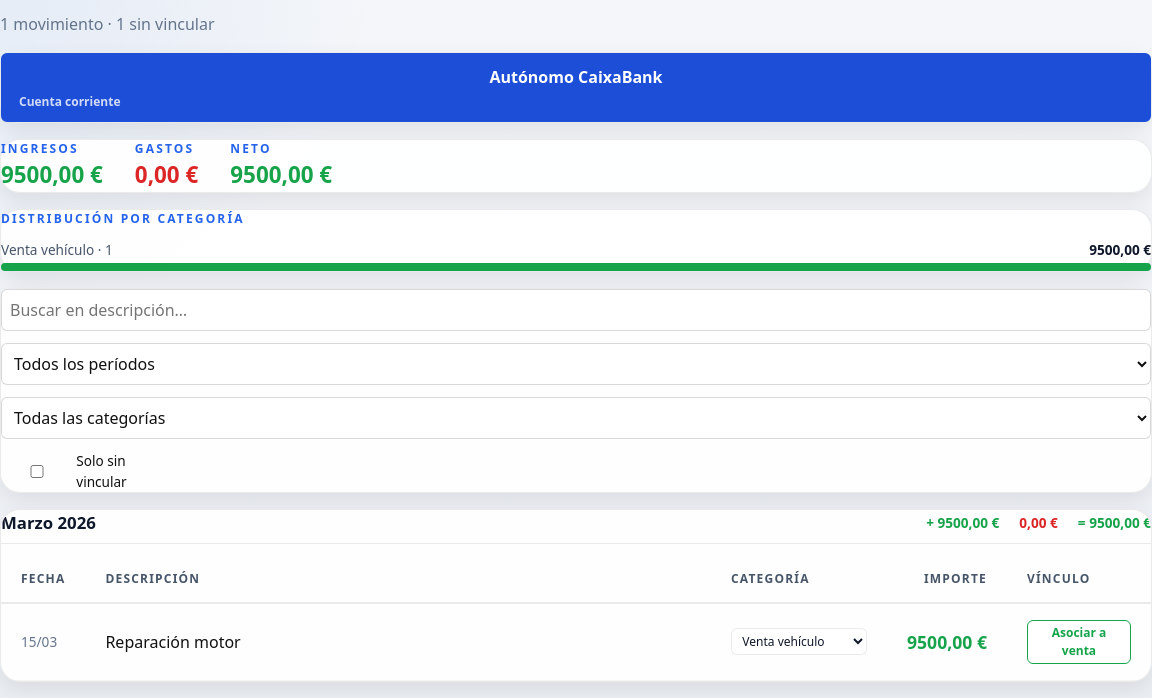
Test case: BankList › opens link-sale modal when "Vincular venta" is clicked
(page scrolled)
Click the button "Asociar a venta".
click(1079, 642)  # box [1027,620,1131,664]
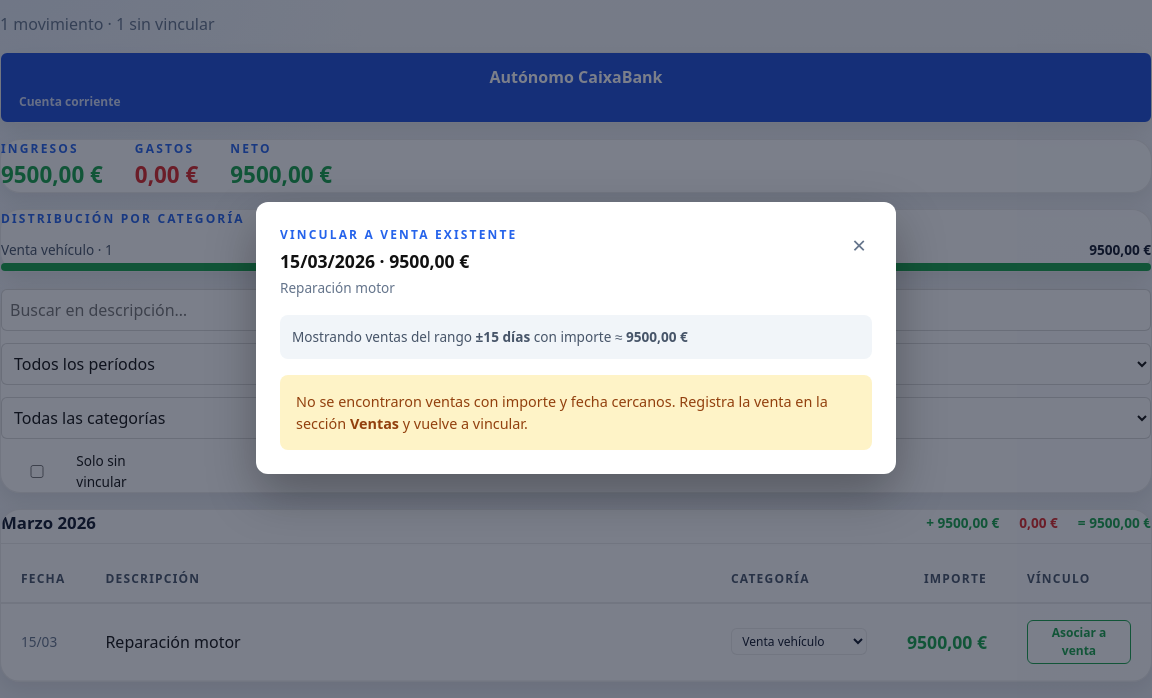
Expected: the text "Vincular a venta existente" is shown, [280,226,518,244]
